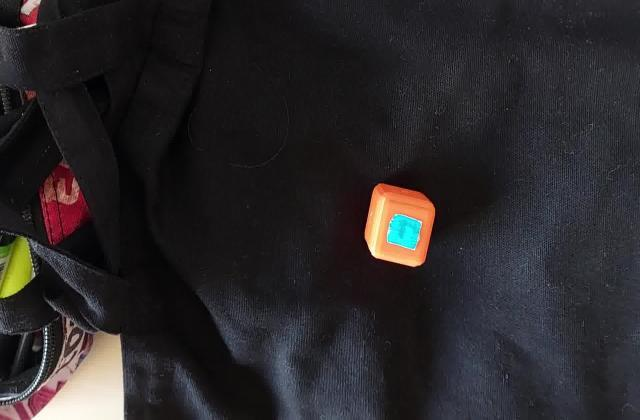blue: (395, 220, 417, 245)
sticker: (361, 181, 436, 270)
